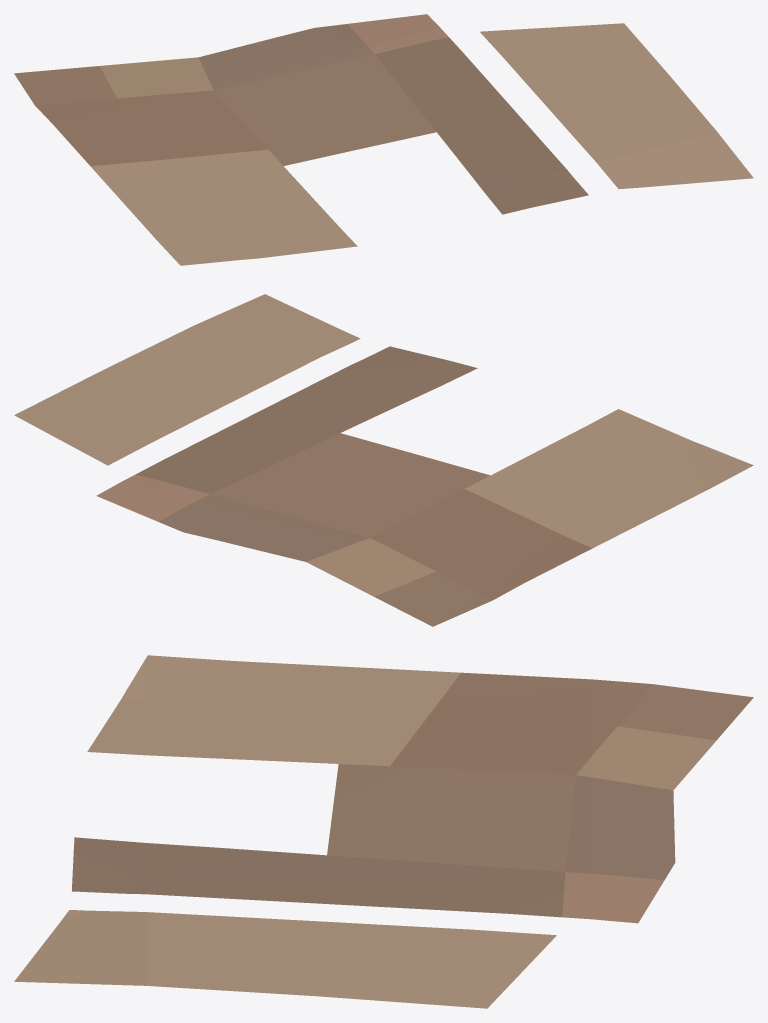
The model's file is farm_13_22_soil.glb.
3 renders of one model, top to bottom at view 1: azimuth 30°, elevation 25°; view 2: azimuth 150°, elevation 25°; view 3: azimuth 270°, elevation 25°, orthographic. The views are drawn at different scales.
Visible parts, largest first — view 1: geometry_0; view 2: geometry_0; view 3: geometry_0.
Part boxes in pixels (x1=…): geometry_0: x1=14, y1=14, x2=753, y2=265; geometry_0: x1=14, y1=294, x2=753, y2=626; geometry_0: x1=14, y1=655, x2=753, y2=1008.
Size of the model in its own units: 153 by 1.68 by 133.
